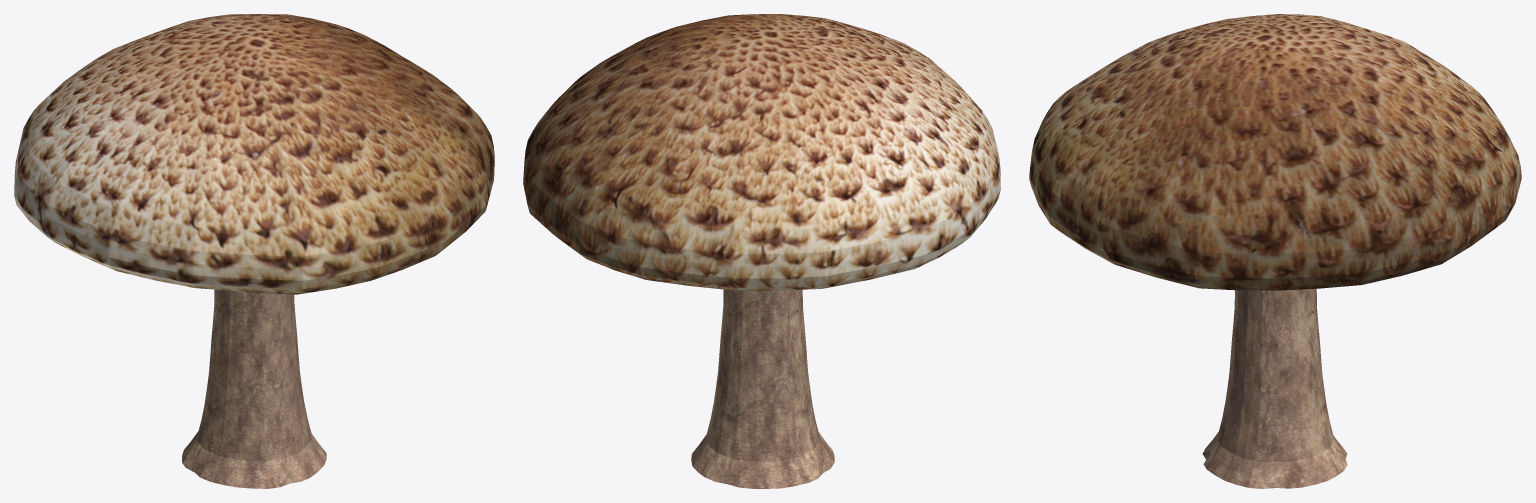
File: shroom.obj
3 renders of one model, left to right at view 1: azimuth 30°, elevation 25°; view 2: azimuth 150°, elevation 25°; view 3: azimuth 270°, elevation 25°, orthographic.
Parts seen in each view (by area): view 1: Cube; view 2: Cube; view 3: Cube.
Part boxes in pixels (box(x1,y1,x2,y2)): Cube: box(14, 14, 494, 488); Cube: box(523, 14, 1000, 488); Cube: box(1029, 14, 1521, 488).
Size of the model in its own units: 13.39 by 13.05 by 13.76.
1 material, 1 textured.
